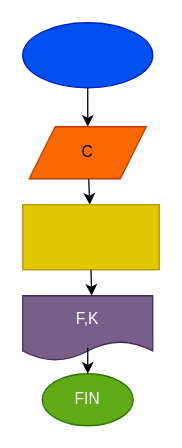
This 182x448 diagram has some shape labels left out. The shapes that lost their labels are listed below. From the top down, each one's box as (x1, y1, x2, y2) in pixels, then its label:
(21, 21, 153, 88): INICIO
(21, 203, 159, 270): K= C+273.15 F= 1.8*C+32
